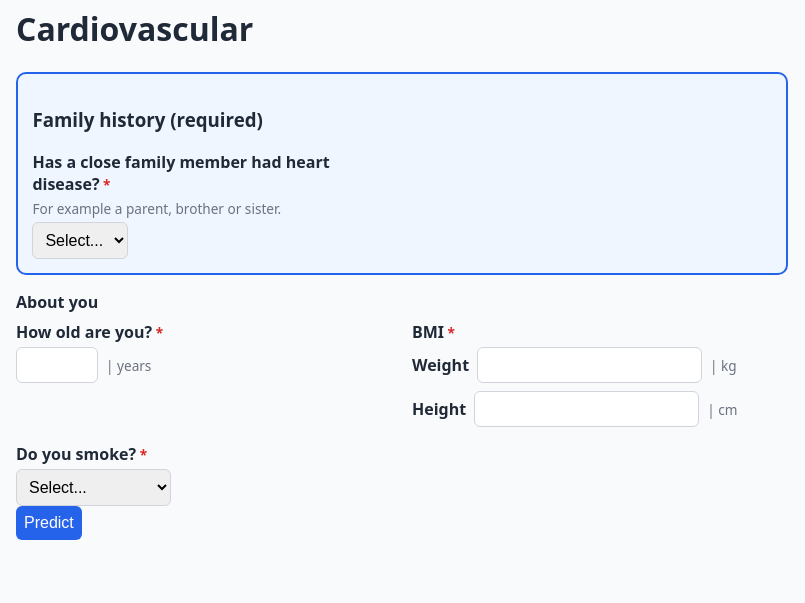
Test: Predict form › blocks submit when weight and height are missing and sends no request
In the number field labelled "How old are you?": (57, 365) x1=16 y1=347 x2=98 y2=383, type "40"
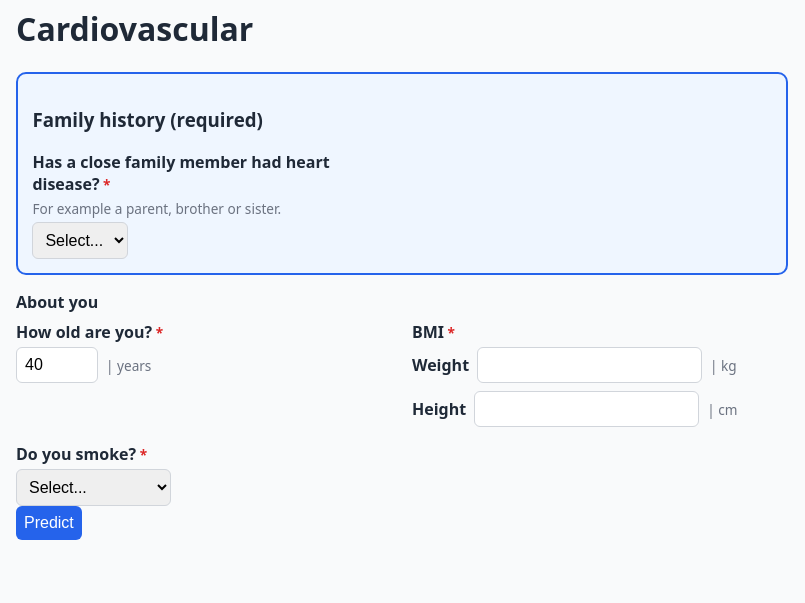
Select "Yes" in the dropdown labelled "Has a close family member had heart disease?": (80, 240) x1=32 y1=222 x2=128 y2=259
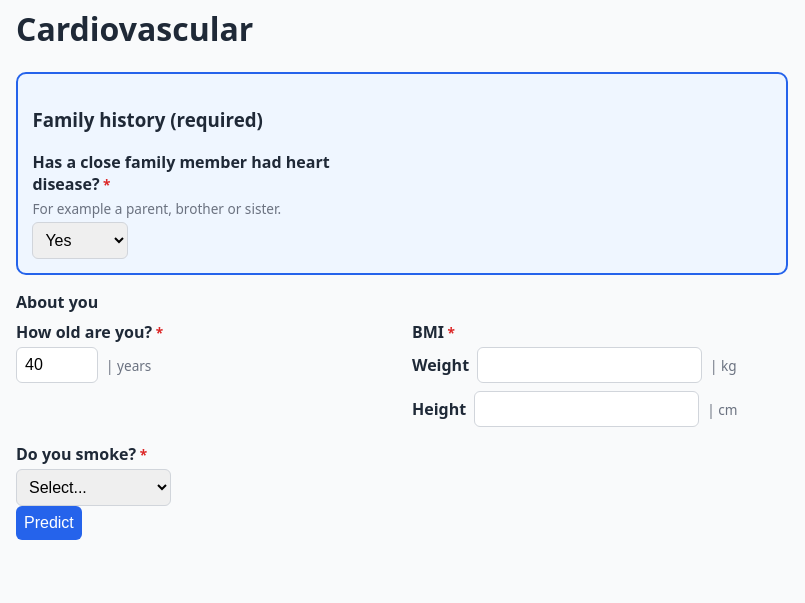
Select "Never smoked" in the dropdown labelled "Do you smoke?": (94, 488) x1=16 y1=469 x2=171 y2=506
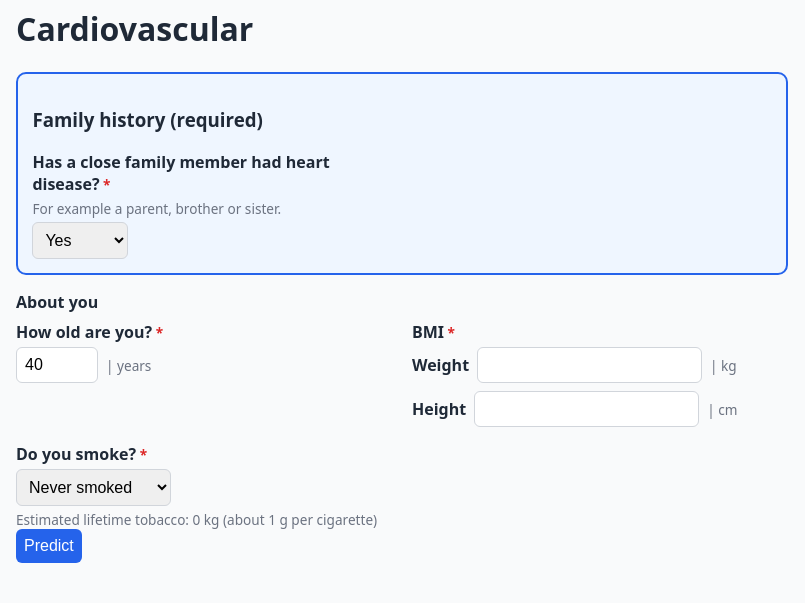
Click the button "Predict": (49, 546) x1=16 y1=529 x2=82 y2=563
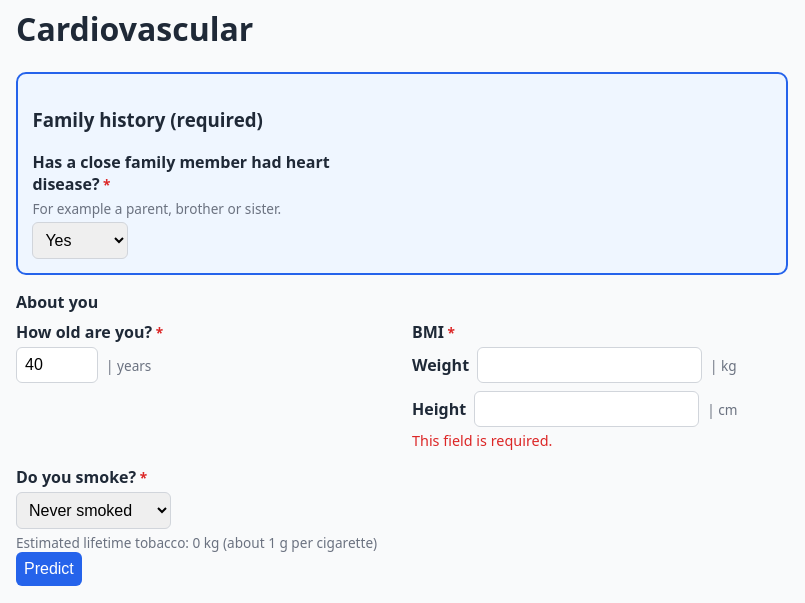
Expected: the text "This field is required." is shown, x1=412 y1=431 x2=552 y2=450
